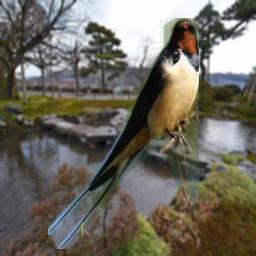Swallow: (48, 18, 199, 249)
